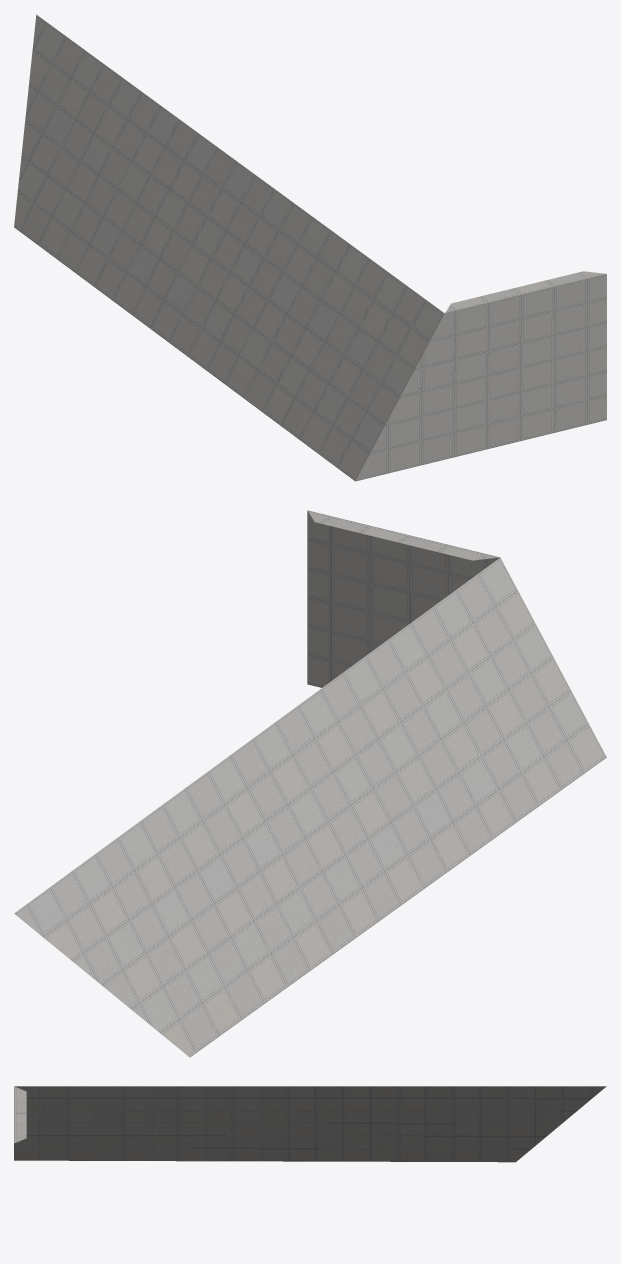
The model's file is kd_stage_135d18_3_16.glb.
The picture shows the model from 3 angles, top to bottom: view 1: azimuth 30°, elevation 25°; view 2: azimuth 150°, elevation 25°; view 3: azimuth 270°, elevation 25°; orthographic projection. The views are drawn at different scales.
Visible parts, largest first — view 1: kd_stage_135d18_3_16; view 2: kd_stage_135d18_3_16; view 3: kd_stage_135d18_3_16.
Part boxes in pixels (x1=…): kd_stage_135d18_3_16: x1=14, y1=14, x2=606, y2=481; kd_stage_135d18_3_16: x1=14, y1=510, x2=606, y2=1057; kd_stage_135d18_3_16: x1=14, y1=1086, x2=606, y2=1162.
Bounding box in the file's own units: 5.04 × 2.8 × 14.18.
Materials: 1 (1 with a texture image).
